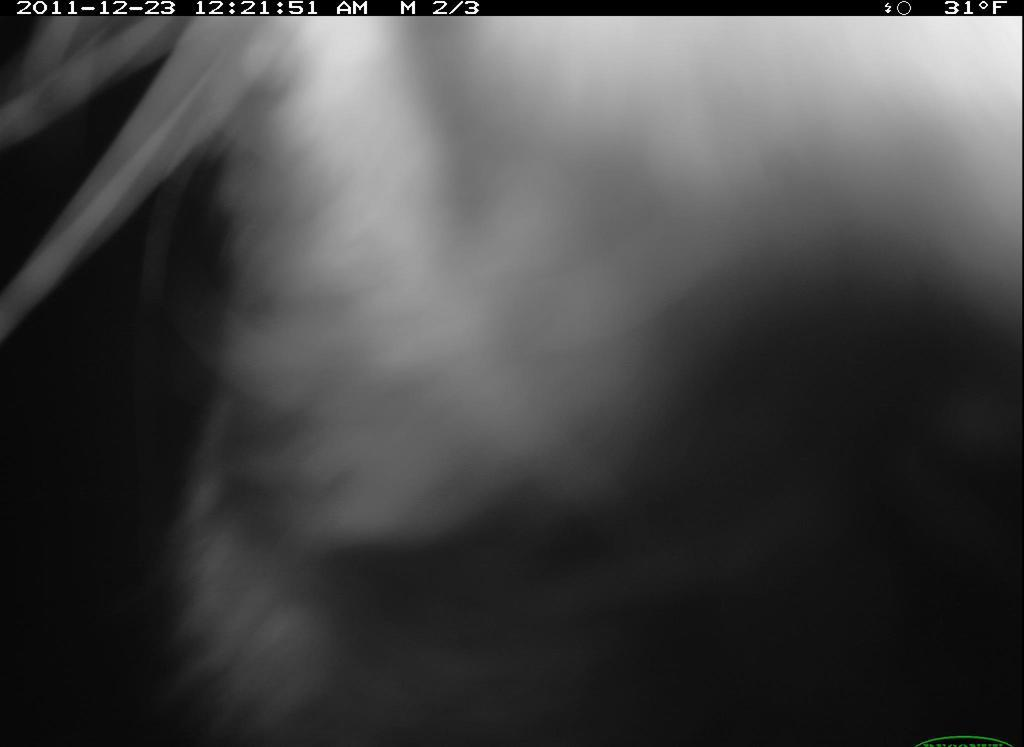raccoon: (140, 18, 1016, 747)
